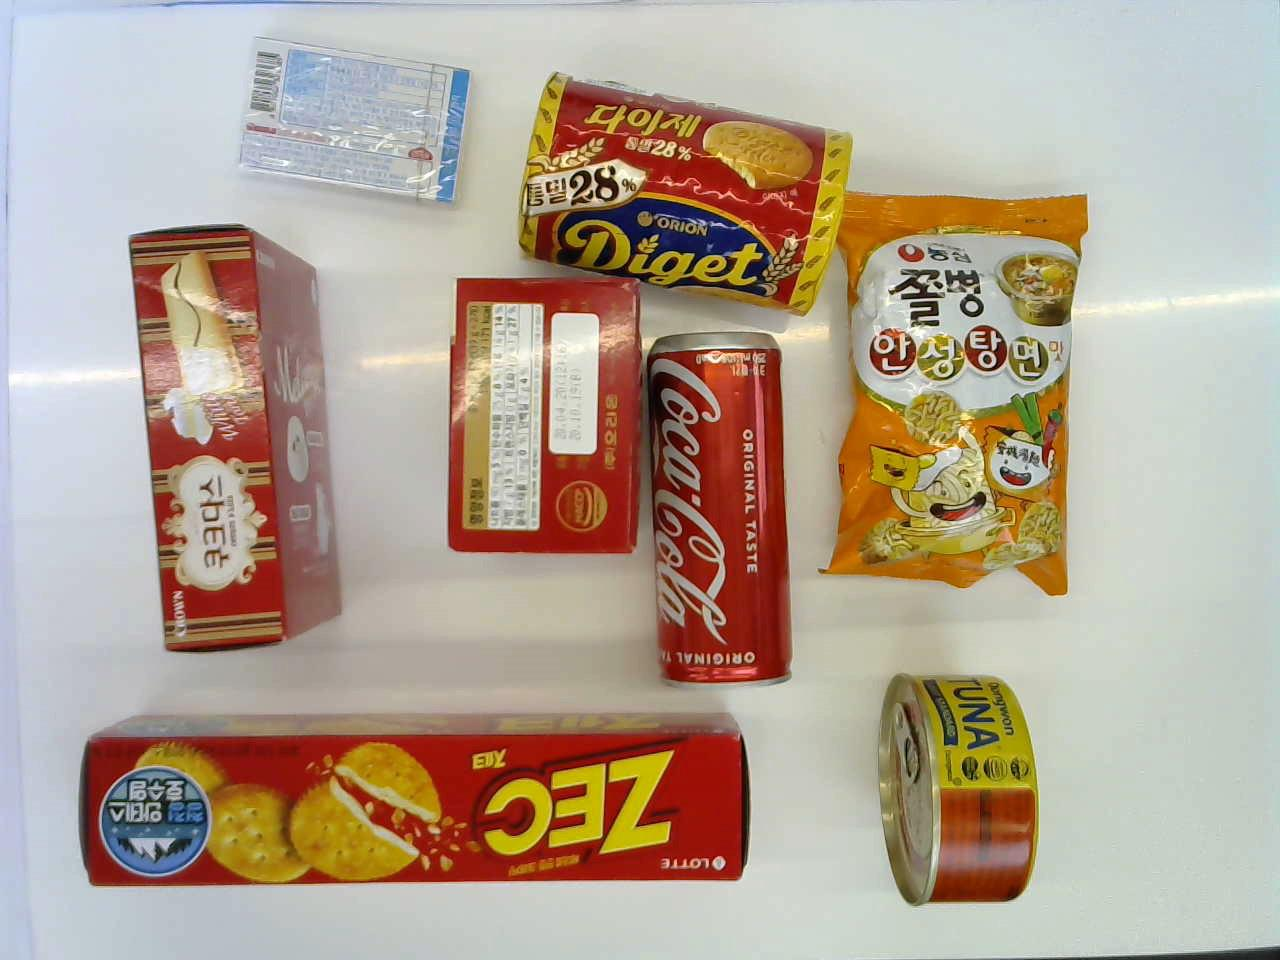ID_gum: (230, 21, 473, 212)
chocopie: (425, 268, 645, 580)
coke: (647, 324, 801, 694)
couque_white: (114, 228, 347, 672)
diget_ori: (498, 76, 855, 325)
jjolbyung_noodle: (833, 173, 1093, 599)
tuna: (874, 654, 1032, 923)
zec: (69, 705, 751, 899)
